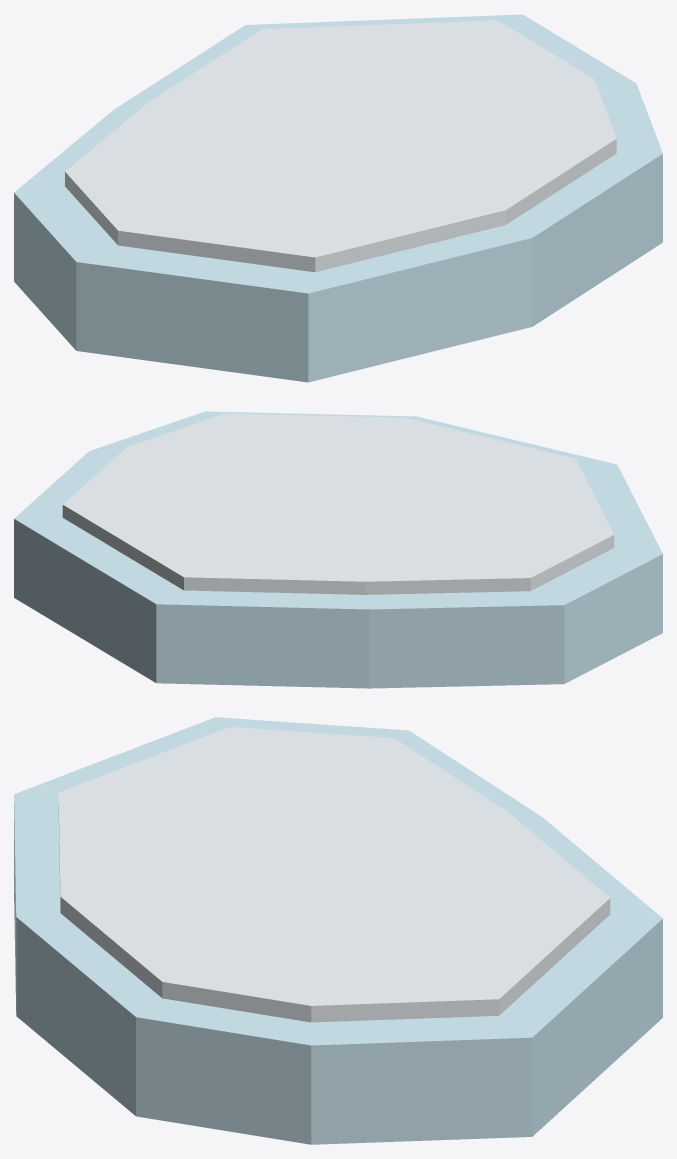
File: prop_ice_floe.glb
3 views of the same model, one above another, from view 1: azimuth 30°, elevation 25°; view 2: azimuth 150°, elevation 25°; view 3: azimuth 270°, elevation 25° (orthographic). The views are drawn at different scales.
Parts seen in each view (by area): view 1: prop_ice_floe; view 2: prop_ice_floe; view 3: prop_ice_floe.
Part boxes in pixels (x1,y1,x2,y2): prop_ice_floe: (14,14,662,382); prop_ice_floe: (14,411,662,688); prop_ice_floe: (14,717,662,1144).
Bounding box in the file's own units: 2.13 × 0.35 × 1.78.
